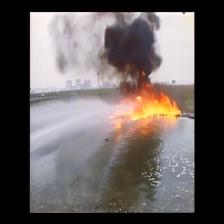fire: (129, 95, 184, 121)
smoke: (53, 13, 170, 85)
